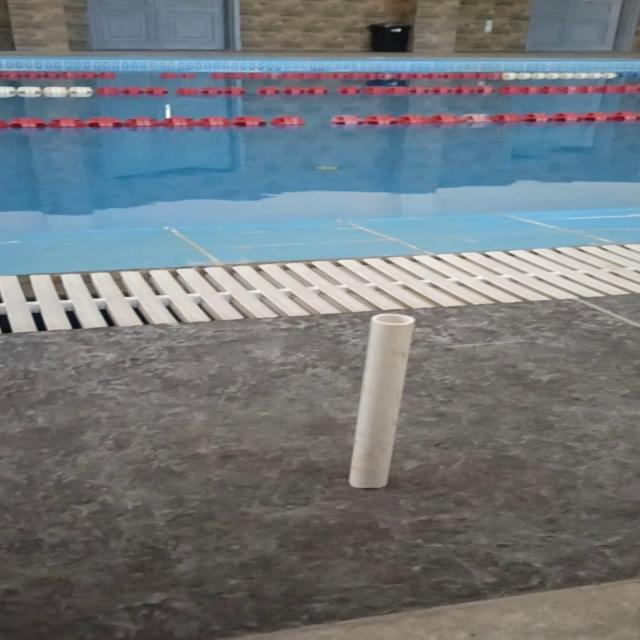Cube: (346, 313, 415, 489)
